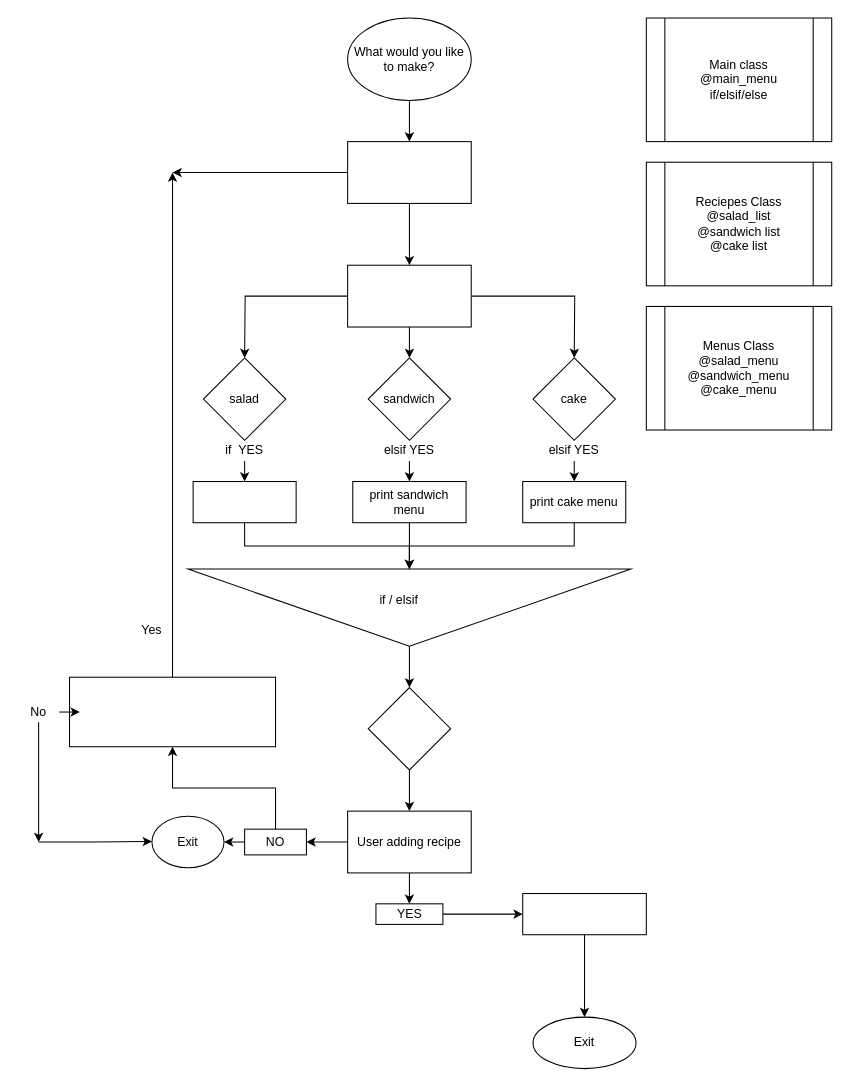
Image size: 850x1087. Some labels were removed from this diagram. The shapes that lost their labels are listed below. From the top down, each one's centre as x and y in pixels, then its label:
pixel 409 172: Showing main menu options (3 options)
pixel 409 295: User selection
pixel 244 501: print salad menu
pixel 172 711: Would you like to start over?
pixel 409 728: Generate recipe
pixel 584 913: Add recipe
